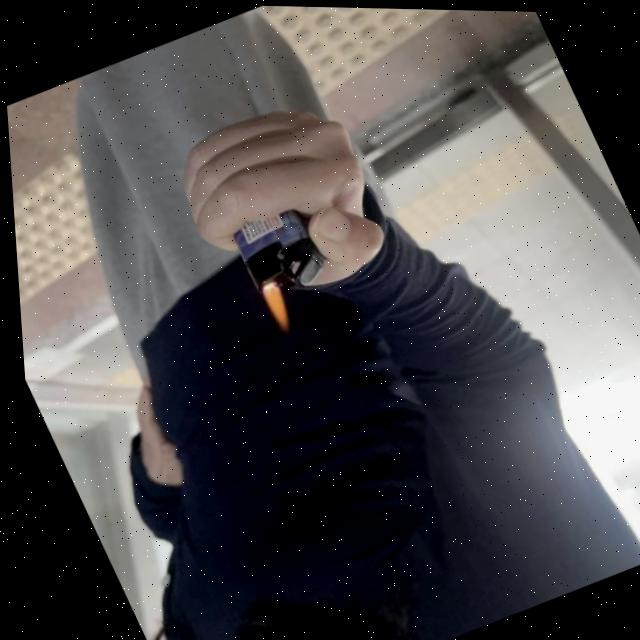Fire: (252, 281, 293, 329)
